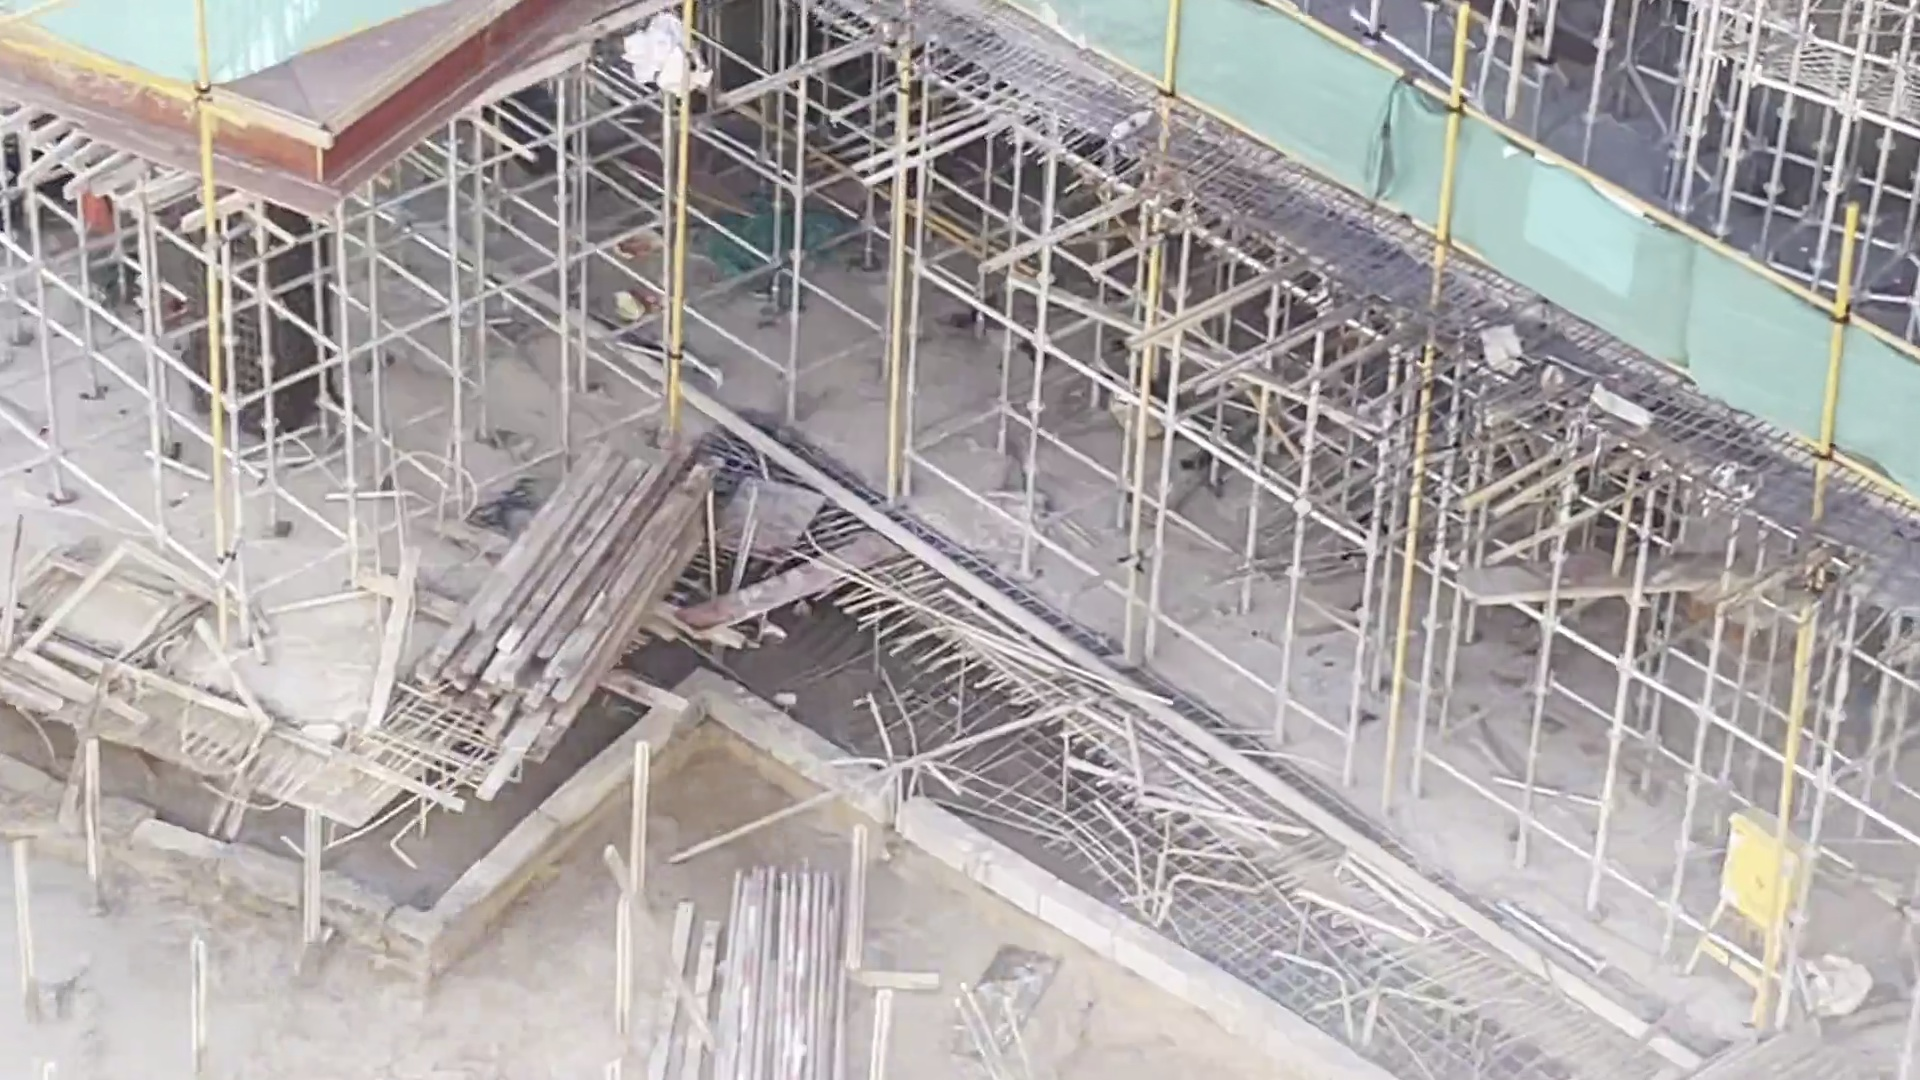ebox: (1714, 800, 1815, 1017)
wood: (447, 450, 709, 719)
